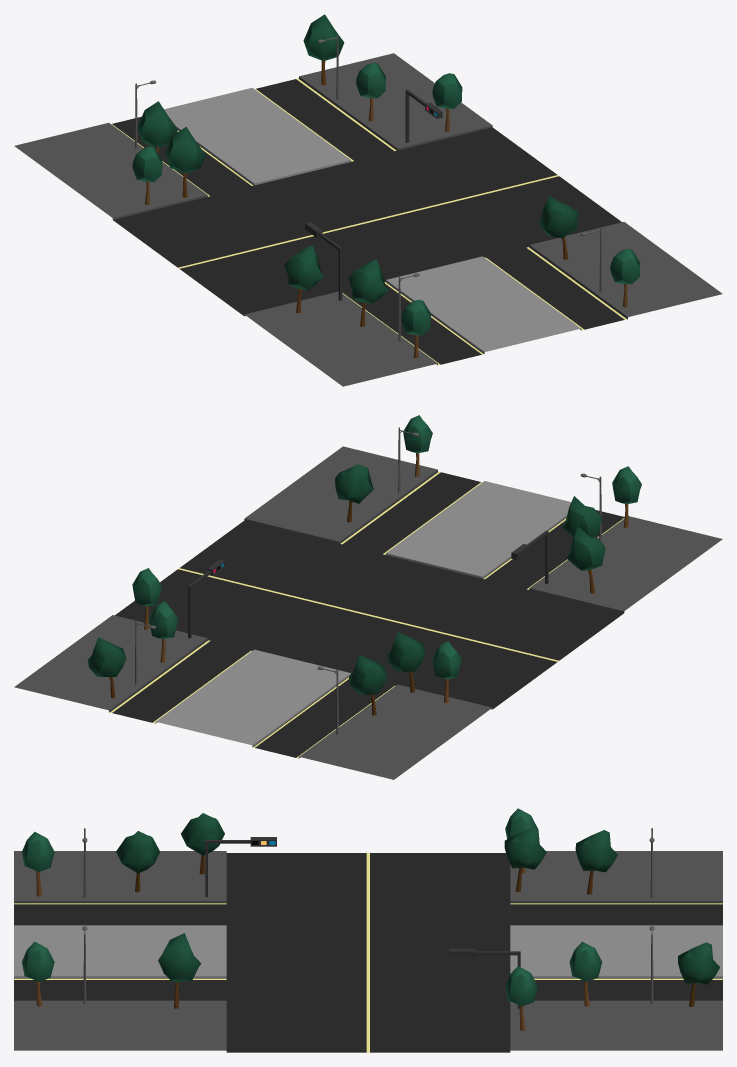
The model's file is Block_03.fbx.
3 views of the same model, one above another, from view 1: azimuth 30°, elevation 25°; view 2: azimuth 150°, elevation 25°; view 3: azimuth 270°, elevation 25° (orthographic). The views are drawn at different scales.
Parts seen in each view (by area): view 1: Block_03; view 2: Block_03; view 3: Block_03.
Boxes of the visible parts, bbox=[...] form: Block_03: bbox=[14, 14, 722, 386]; Block_03: bbox=[14, 415, 722, 779]; Block_03: bbox=[14, 808, 722, 1052].
Bounding box in the file's own units: 2000 × 336 × 3000.
2 materials, 1 textured.
